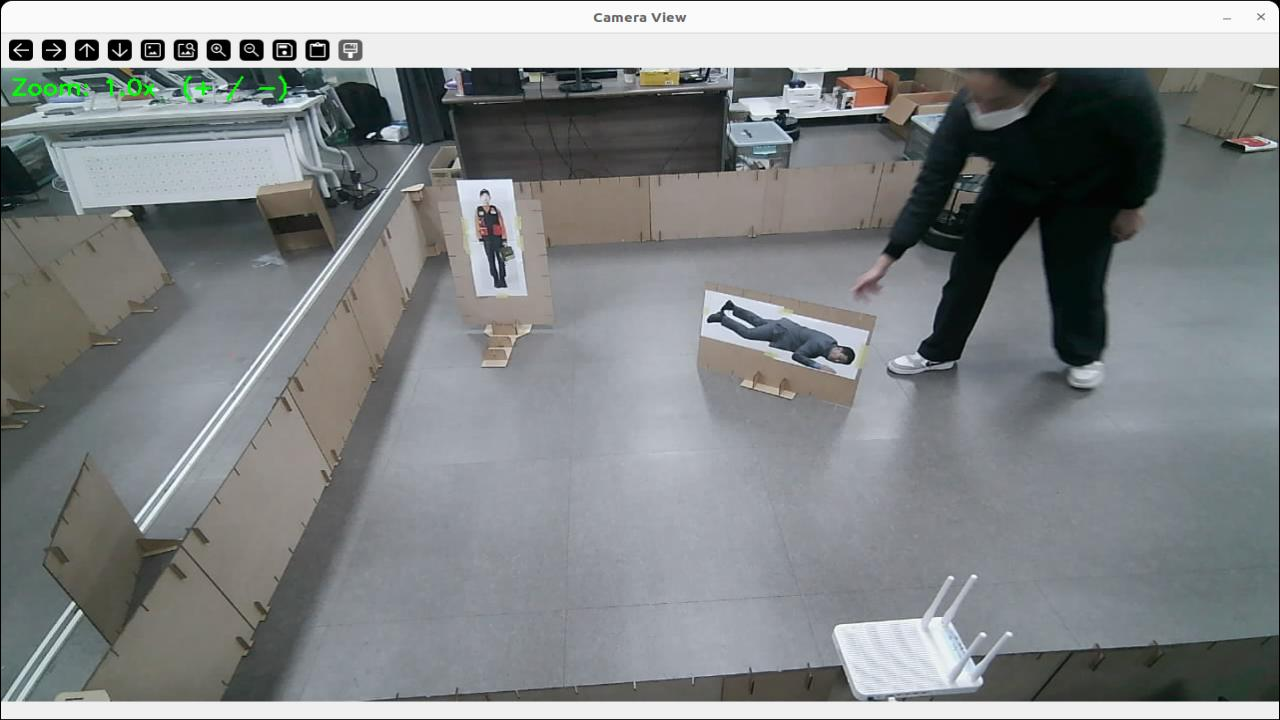Patient: (707, 301, 854, 373)
Responder: (476, 191, 507, 288)
